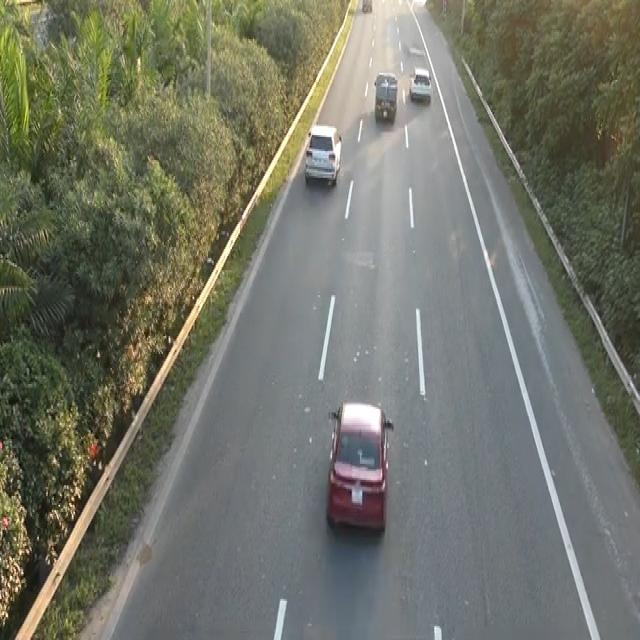bus: (323, 396, 396, 540)
car: (303, 121, 343, 188)
minivan: (373, 68, 398, 122)
